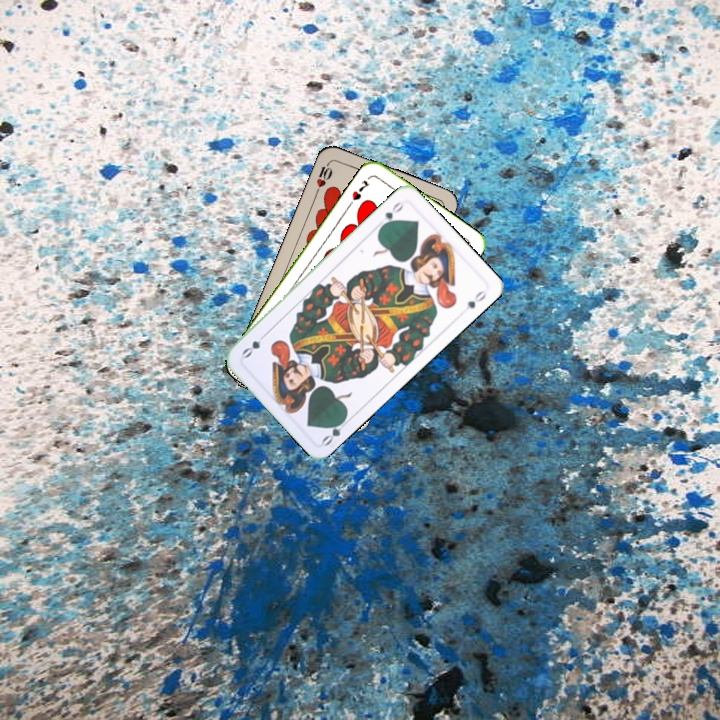GO: (318, 413, 352, 448), (376, 197, 406, 231)
H10: (312, 157, 335, 196)
H7: (348, 176, 372, 203)
